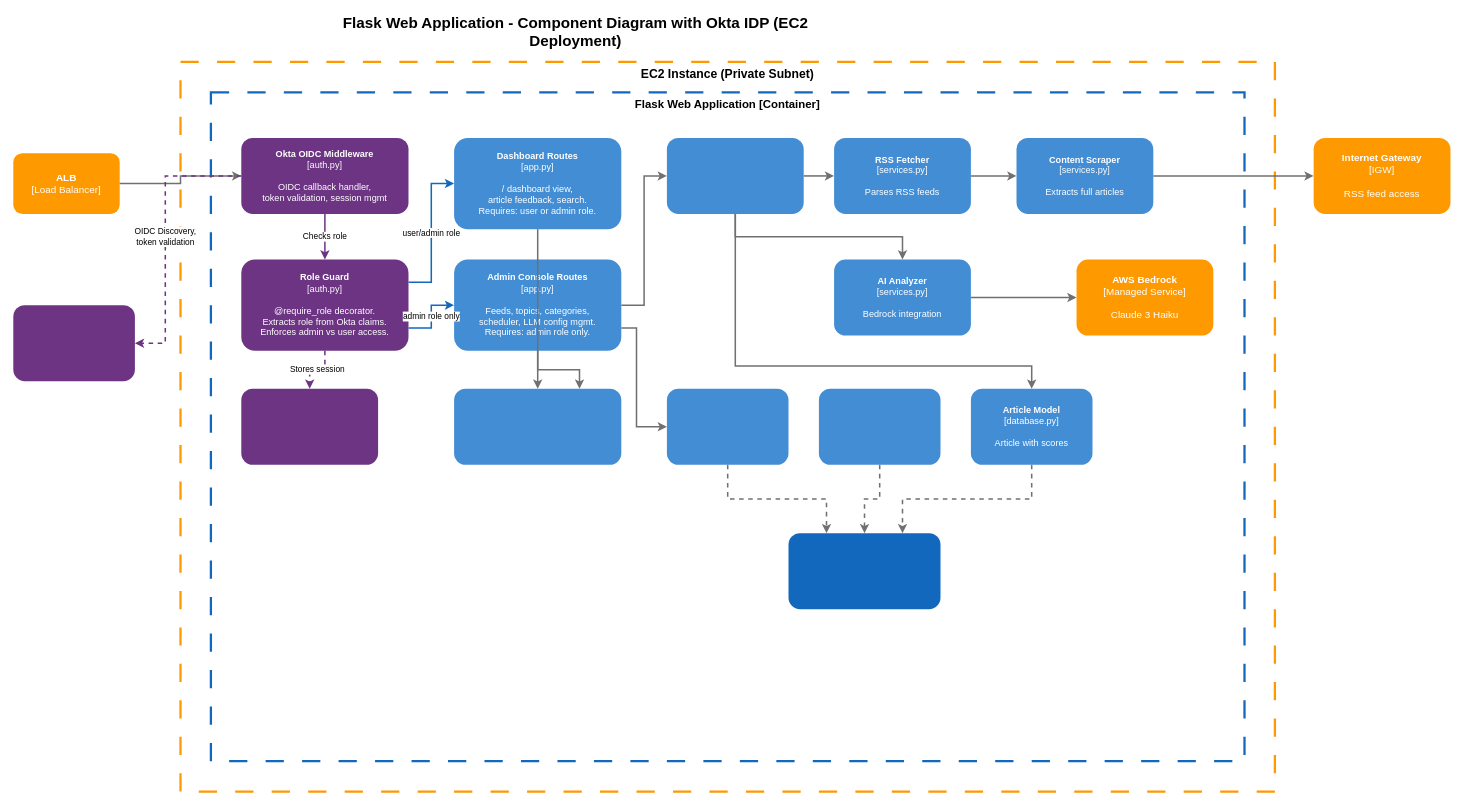
Some shapes in this 1463 by 806 pixel diagram are drawn without their labels. The box of each missing label's shape, as (x1, y1, x2, y2) in pixels:
Feed Model [database.py] RSS feed entity: (667, 388, 788, 464)
News Processor [services.py] Orchestrates pipeline: (667, 138, 803, 214)
Okta IDP [External IdP] OIDC / OAuth 2.0: (13, 305, 135, 381)
SQLite Database [news.db] Local file storage: (788, 533, 940, 609)
Templates [Jinja2] Dashboard + Admin HTML views: (454, 388, 621, 464)
Topic Model [database.py] Topic with keywords: (819, 388, 940, 464)
User Session [auth.py] Okta user profile, role (admin/user): (241, 388, 378, 464)
